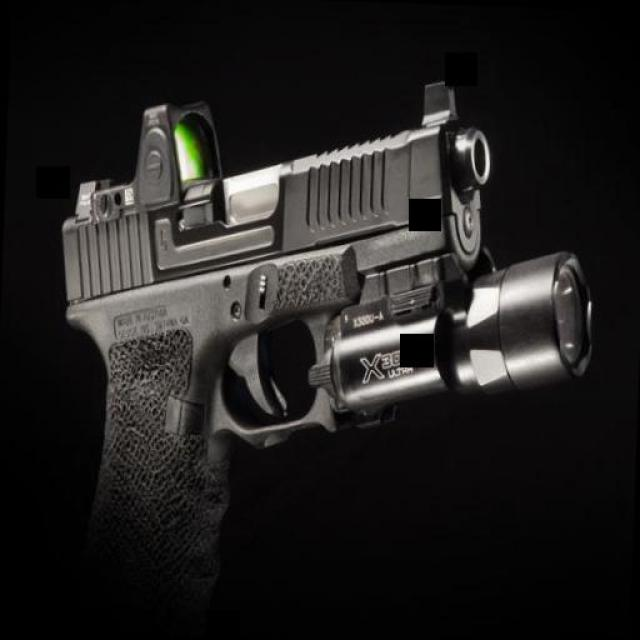gun: (43, 34, 605, 640)
